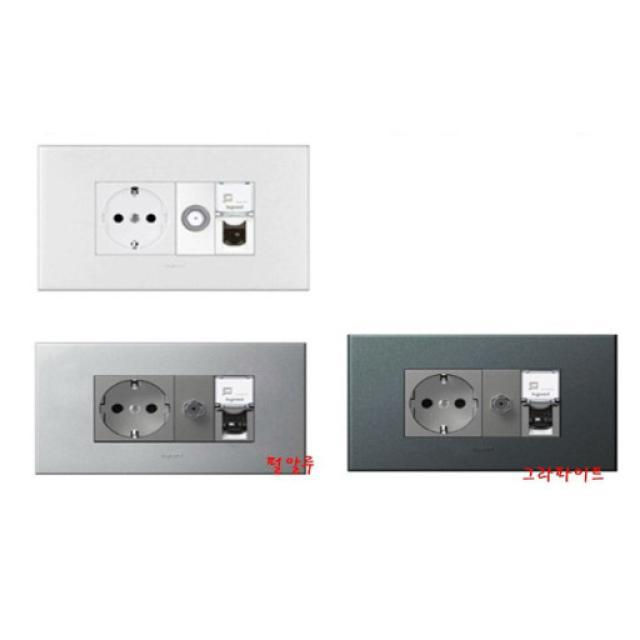typeb: (316, 316, 482, 500), (27, 317, 181, 508), (26, 140, 180, 304)
